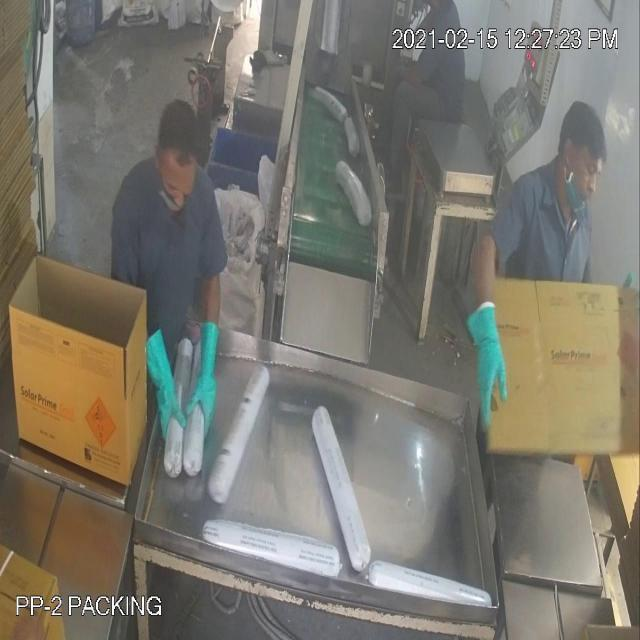Gloves: (48, 143, 490, 387)
